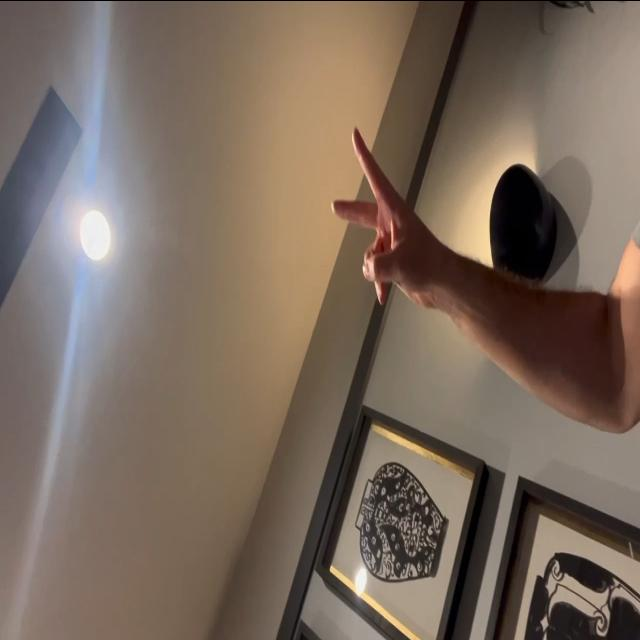Scissors: (330, 125, 454, 308)
